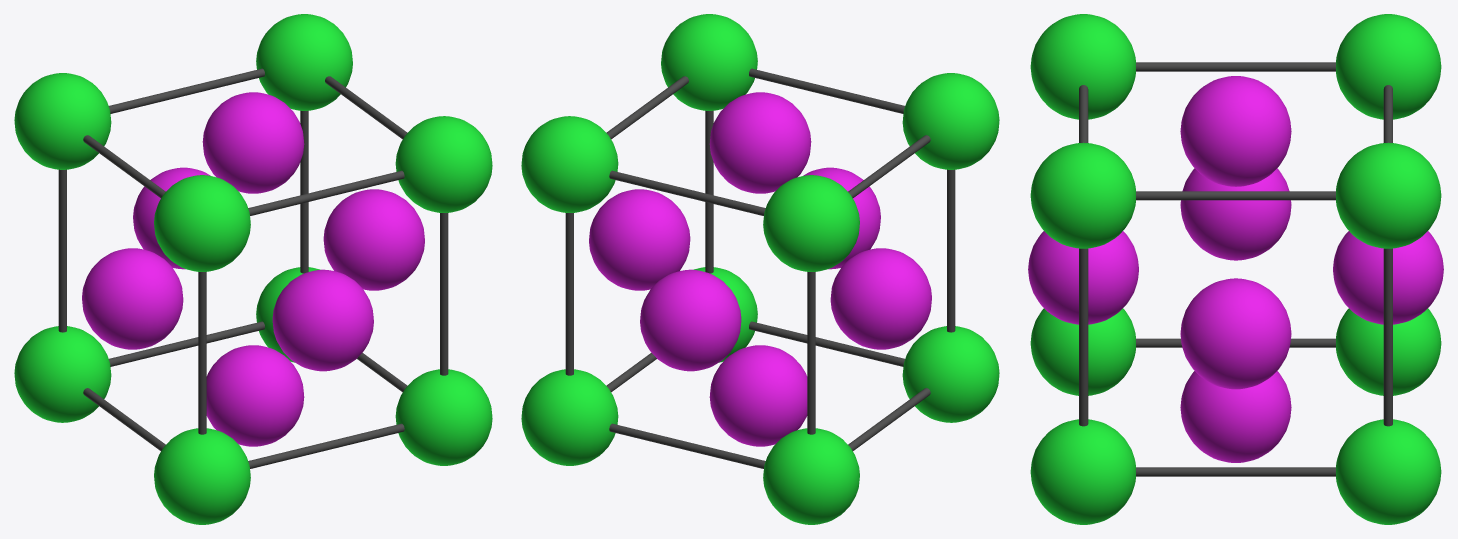
The model's file is FCC.glb.
3 views of the same model, side by side, from view 1: azimuth 30°, elevation 25°; view 2: azimuth 150°, elevation 25°; view 3: azimuth 270°, elevation 25° (orthographic). The views are drawn at different scales.
Parts seen in each view (by area): view 1: Sphere.009, Sphere.011, Sphere.012, Sphere, Sphere.013, Sphere.006, Sphere.007, Sphere.002, Sphere.003, Sphere.005, Sphere.008, Sphere.001 (+13 smaller); view 2: Sphere.009, Sphere.010, Sphere.012, Sphere, Sphere.013, Sphere.005, Sphere.008, Sphere.001, Sphere.004, Sphere.006, Sphere.007, Sphere.002 (+13 smaller); view 3: Sphere, Sphere.012, Sphere.001, Sphere.002, Sphere.003, Sphere.004, Sphere.005, Sphere.006, Sphere.013, Sphere.010, Sphere.011, Sphere.009 (+10 smaller).
Part boxes in pixels (left/top/right/bottom): Sphere.009: left=82, top=248, right=183, bottom=349; Sphere.011: left=272, top=269, right=373, bottom=371; Sphere.012: left=202, top=92, right=304, bottom=193; Sphere: left=323, top=189, right=424, bottom=290; Sphere.013: left=206, top=345, right=304, bottom=446; Sphere.006: left=154, top=175, right=250, bottom=271; Sphere.007: left=154, top=428, right=250, bottom=524; Sphere.002: left=395, top=116, right=492, bottom=212; Sphere.003: left=395, top=369, right=492, bottom=465; Sphere.005: left=14, top=73, right=111, bottom=169; Sphere.008: left=14, top=326, right=111, bottom=422; Sphere.001: left=256, top=14, right=352, bottom=110; Sphere.009: left=830, top=248, right=931, bottom=349; Sphere.010: left=640, top=269, right=741, bottom=371; Sphere.012: left=709, top=92, right=811, bottom=193; Sphere: left=589, top=189, right=690, bottom=290; Sphere.013: left=709, top=345, right=807, bottom=446; Sphere.005: left=763, top=175, right=859, bottom=271; Sphere.008: left=763, top=428, right=859, bottom=524; Sphere.001: left=521, top=116, right=618, bottom=212; Sphere.004: left=521, top=369, right=618, bottom=465; Sphere.006: left=902, top=73, right=999, bottom=169; Sphere.007: left=902, top=326, right=999, bottom=422; Sphere.002: left=661, top=14, right=757, bottom=110; Sphere: left=1180, top=278, right=1291, bottom=389; Sphere.012: left=1180, top=76, right=1291, bottom=186; Sphere.001: left=1336, top=142, right=1441, bottom=248; Sphere.002: left=1030, top=142, right=1135, bottom=248; Sphere.003: left=1030, top=419, right=1135, bottom=524; Sphere.004: left=1336, top=419, right=1441, bottom=524; Sphere.005: left=1336, top=14, right=1441, bottom=119; Sphere.006: left=1030, top=14, right=1135, bottom=119; Sphere.013: left=1180, top=371, right=1291, bottom=462; Sphere.010: left=1333, top=231, right=1443, bottom=324; Sphere.011: left=1028, top=231, right=1138, bottom=324; Sphere.009: left=1180, top=168, right=1291, bottom=260.
Bounding box in the file's own units: 2.73 × 2.73 × 2.73.
